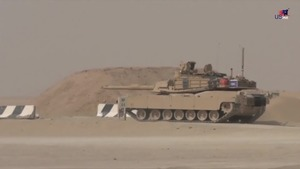abrams: (100, 63, 271, 125)
